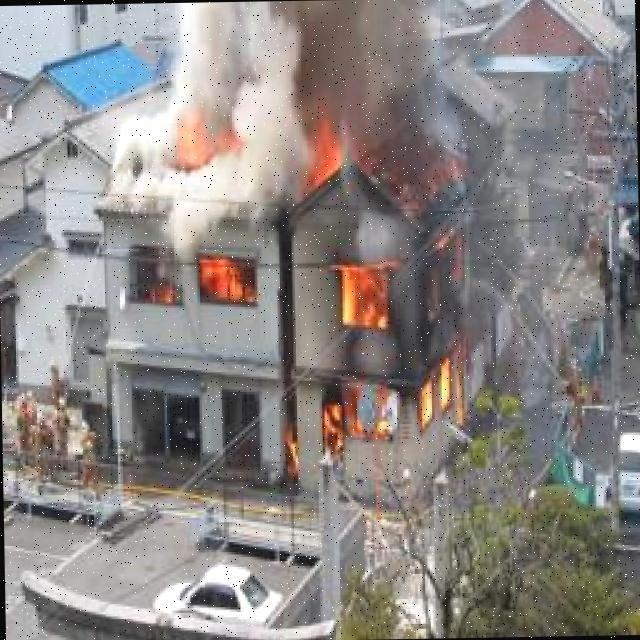Fire: (276, 224, 472, 473), (372, 127, 418, 159)
